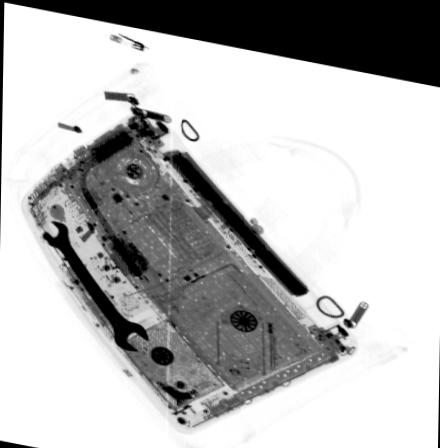Wrench: (41, 216, 149, 346)
